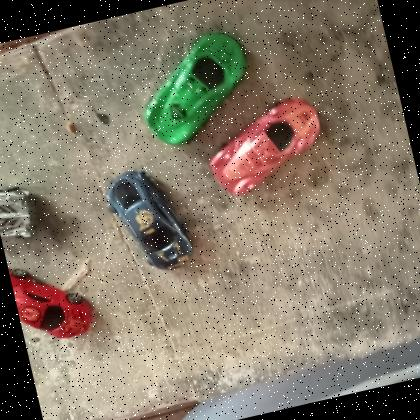Car: (128, 21, 262, 152), (198, 92, 334, 201), (99, 160, 198, 282)
